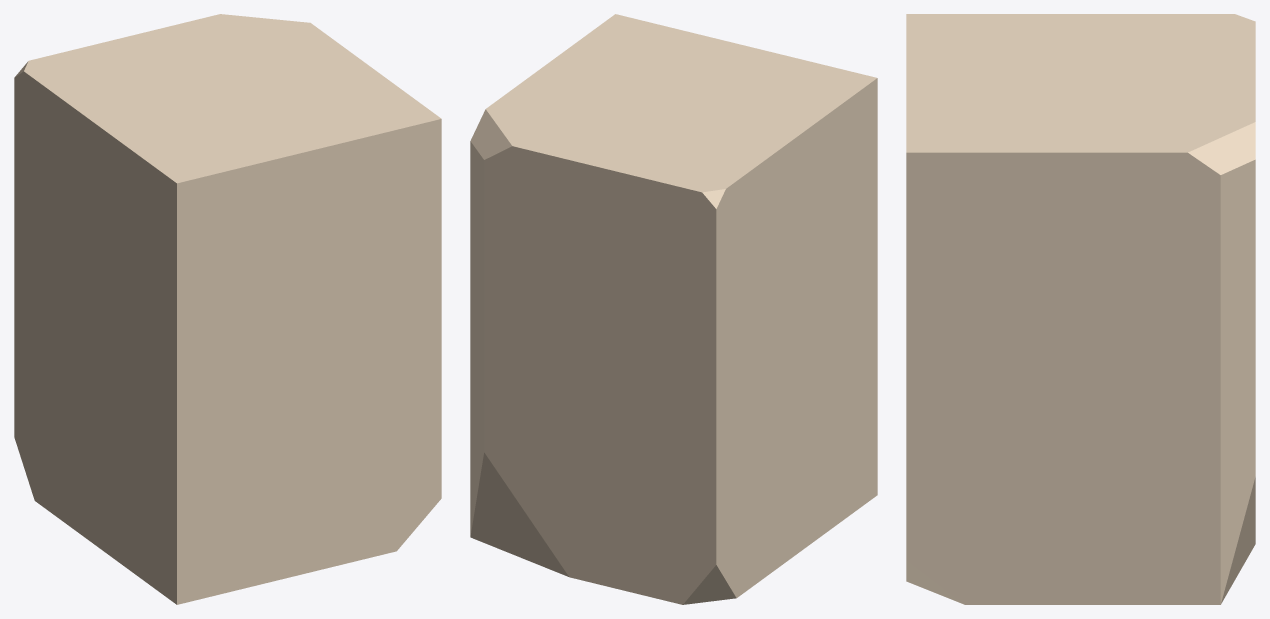
3 views of the same model, side by side, from view 1: azimuth 30°, elevation 25°; view 2: azimuth 150°, elevation 25°; view 3: azimuth 270°, elevation 25° (orthographic). The views are drawn at different scales.
Visible parts, largest first — view 1: object10; view 2: object10; view 3: object10.
Part boxes in pixels (x1=…): object10: x1=14, y1=14, x2=441, y2=604; object10: x1=470, y1=14, x2=877, y2=604; object10: x1=906, y1=14, x2=1255, y2=604.
Size of the model in its own units: 0.1315 by 0.2 by 0.14.
